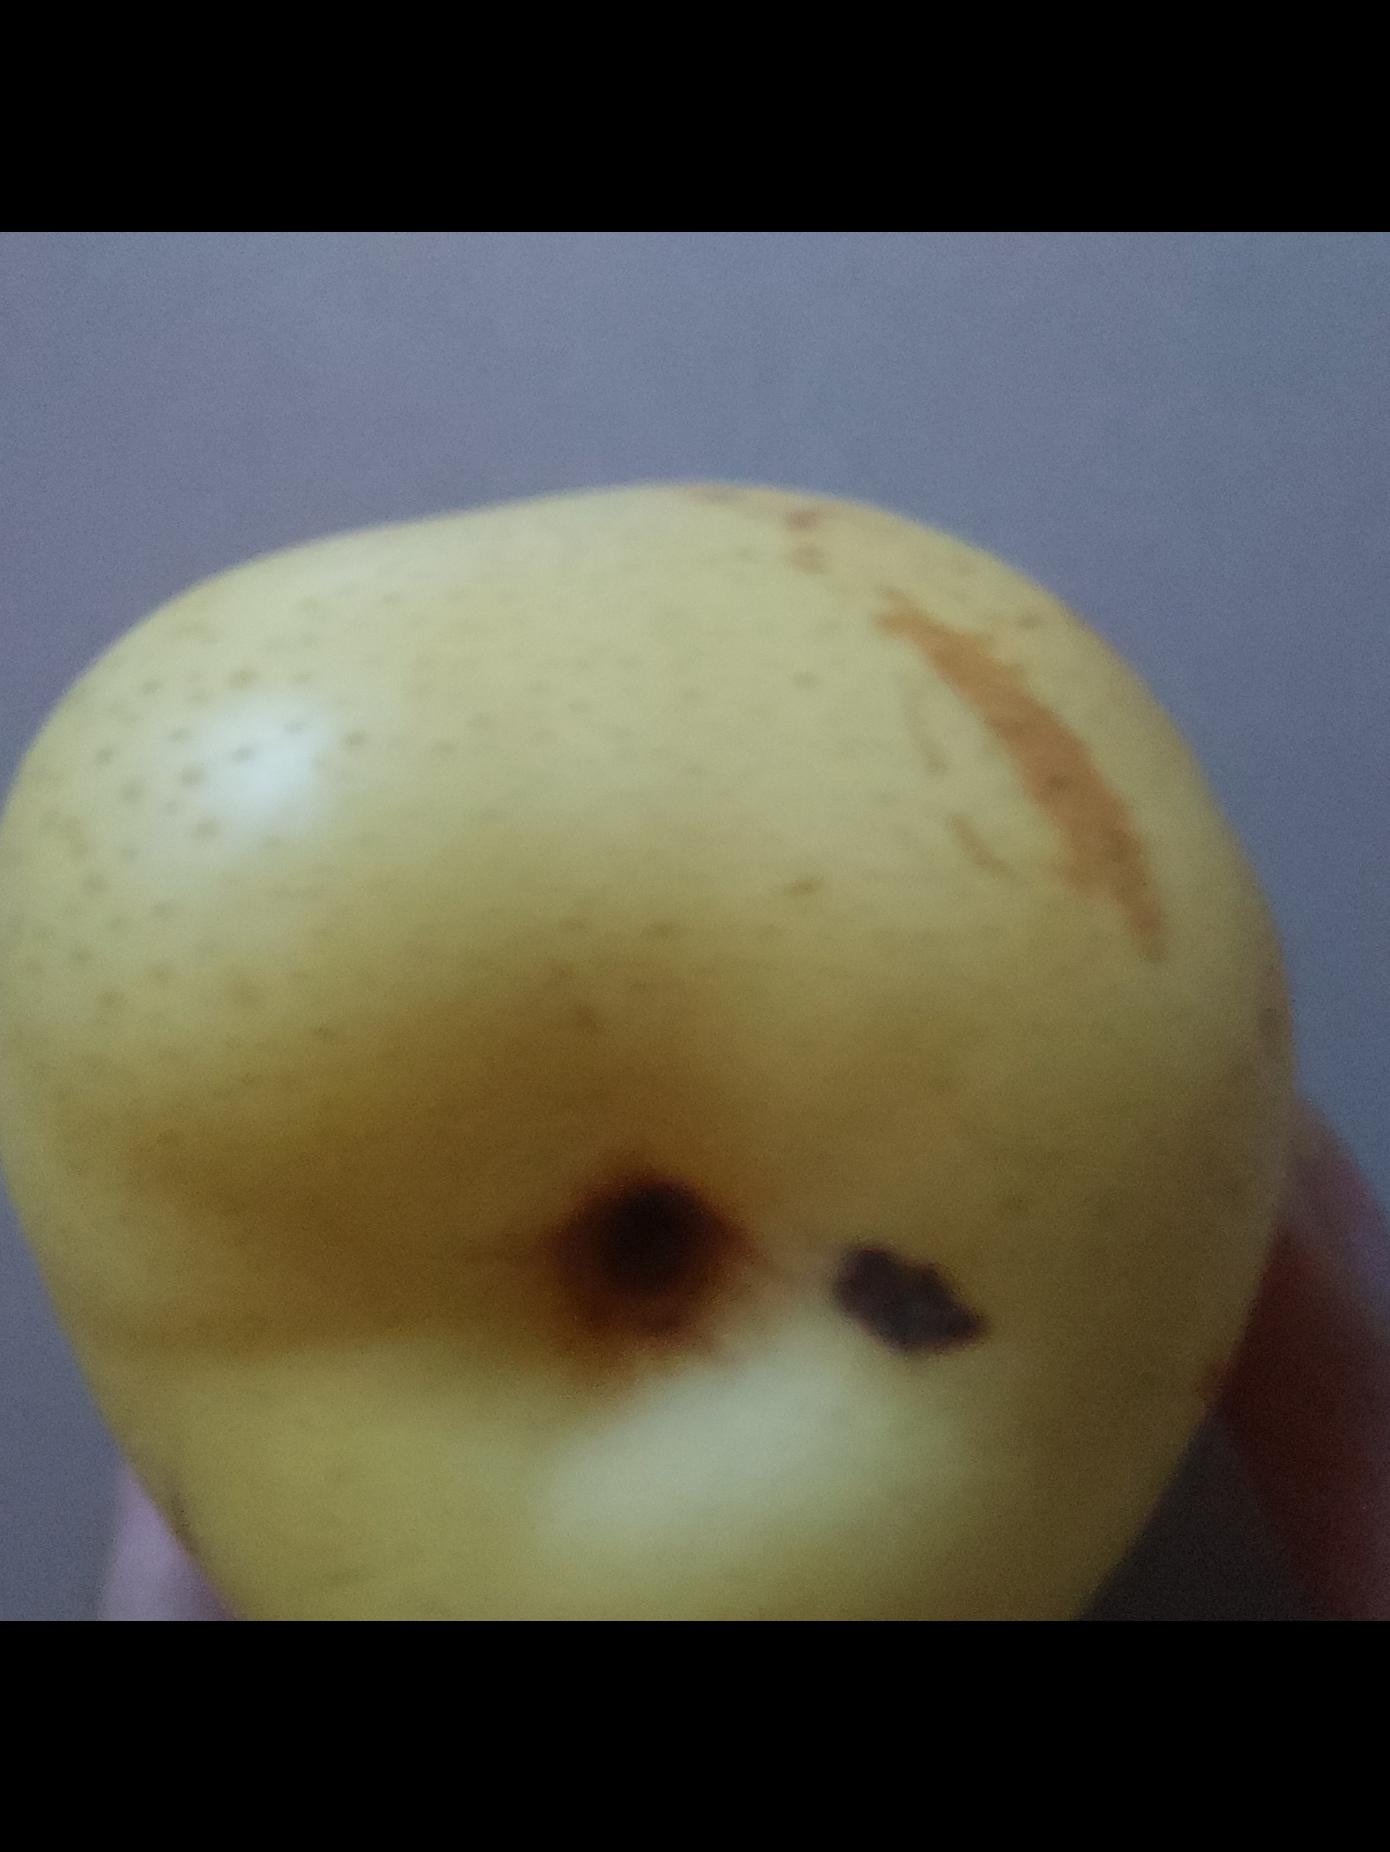Good Pear: (0, 473, 1295, 1621)
